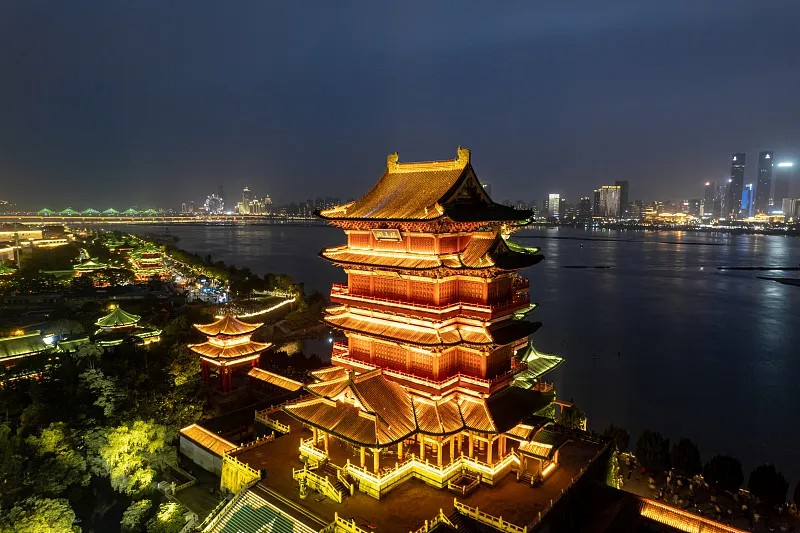Teng: (283, 144, 565, 485)
